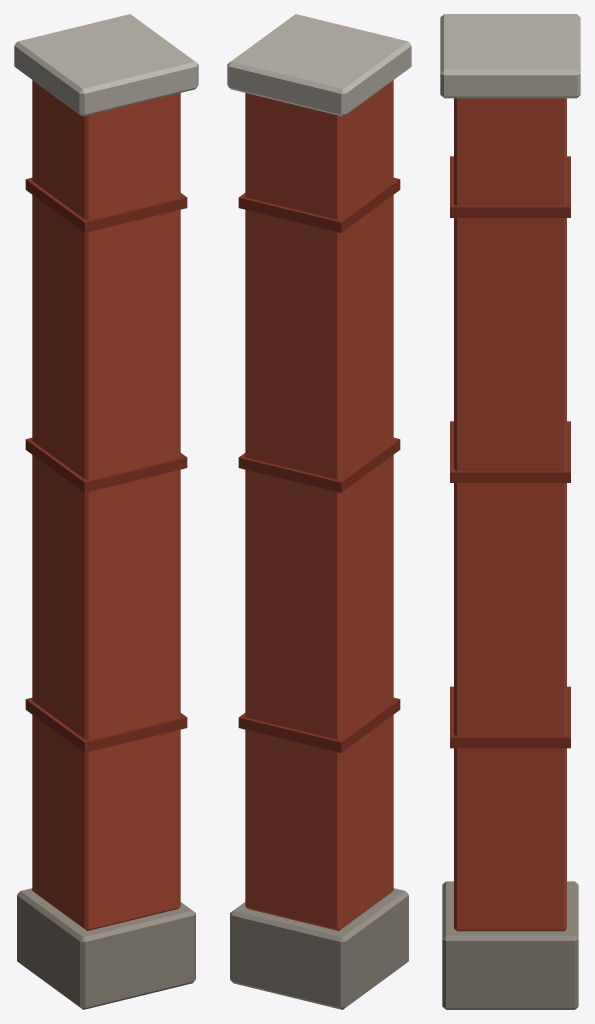
Rendered from hall_corner.glb.
3 renders of one model, left to right at view 1: azimuth 30°, elevation 25°; view 2: azimuth 150°, elevation 25°; view 3: azimuth 270°, elevation 25°, orthographic. The views are drawn at different scales.
Parts seen in each view (by area): view 1: pier; view 2: pier; view 3: pier.
Part boxes in pixels (x1=…): pier: x1=14, y1=14, x2=198, y2=1009; pier: x1=227, y1=14, x2=411, y2=1009; pier: x1=440, y1=14, x2=580, y2=1009.
Size of the model in its own units: 0.72 by 5.32 by 0.72.
